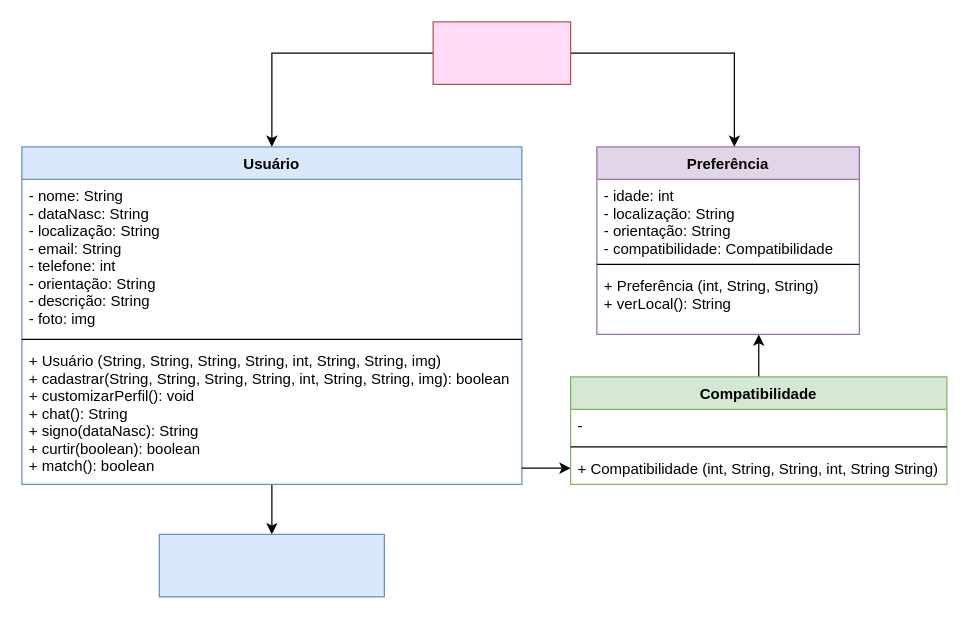
This 969x619 diagram has some shape labels left out. The shapes that lost their labels are listed below. From the top down, each one's centre as x and y in pixels, then its label:
At (x=501, y=52): "Tchan Tchan!".
At (x=271, y=565): "Se ambos usuários se curtirem, acontecerá o Match!".
